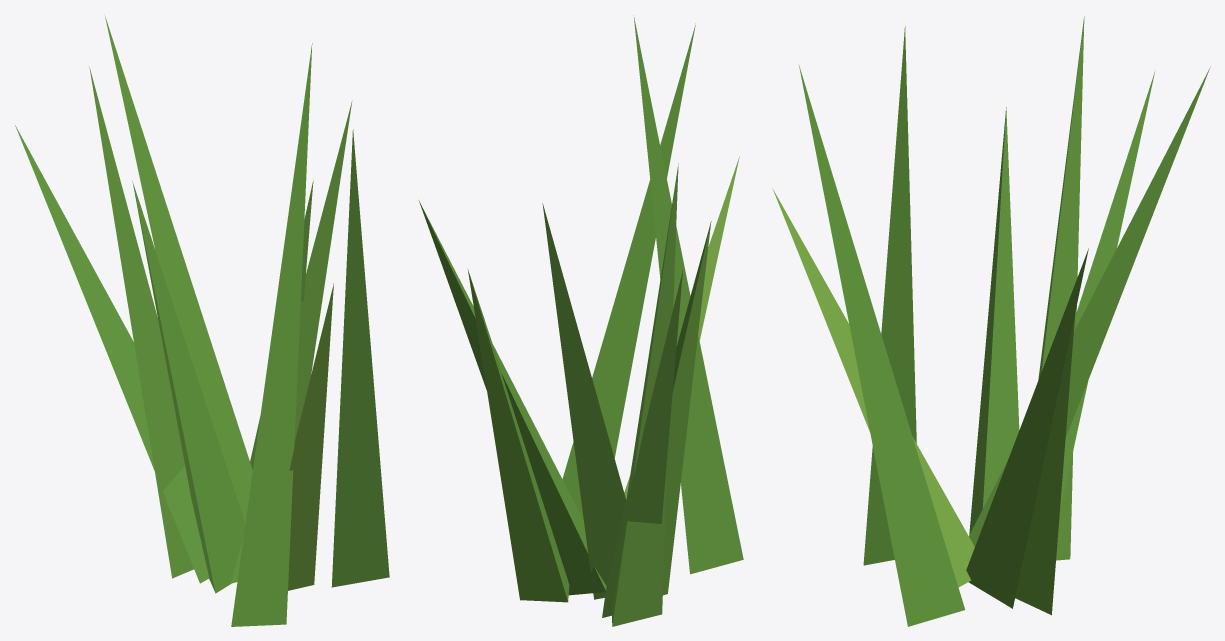
File: nature2_grass_tuft.glb
3 views of the same model, side by side, from view 1: azimuth 30°, elevation 25°; view 2: azimuth 150°, elevation 25°; view 3: azimuth 270°, elevation 25° (orthographic). The views are drawn at different scales.
Parts seen in each view (by area): view 1: grass_tuft; view 2: grass_tuft; view 3: grass_tuft.
Boxes of the visible parts, x1,y1,x2,y2 form: grass_tuft: [15, 16, 389, 626]; grass_tuft: [418, 15, 743, 626]; grass_tuft: [772, 16, 1210, 626].
Bounding box in the file's own units: 0.255 × 0.4514 × 0.3131.
